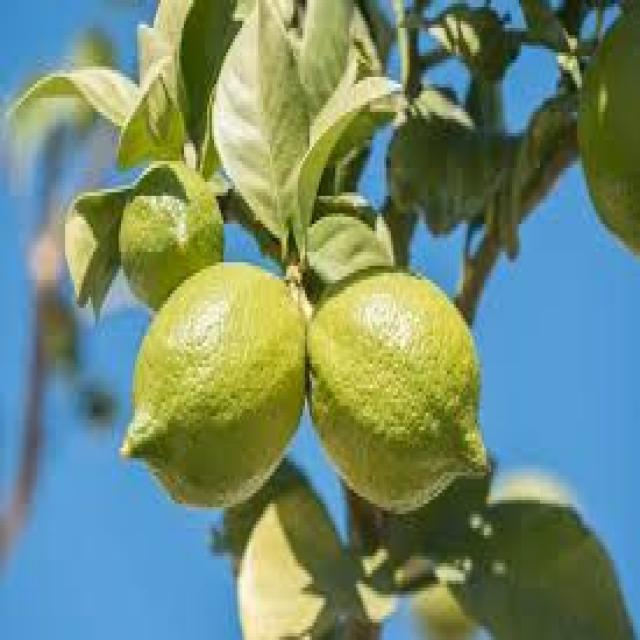Unripe: (120, 260, 309, 508), (307, 264, 492, 516)
